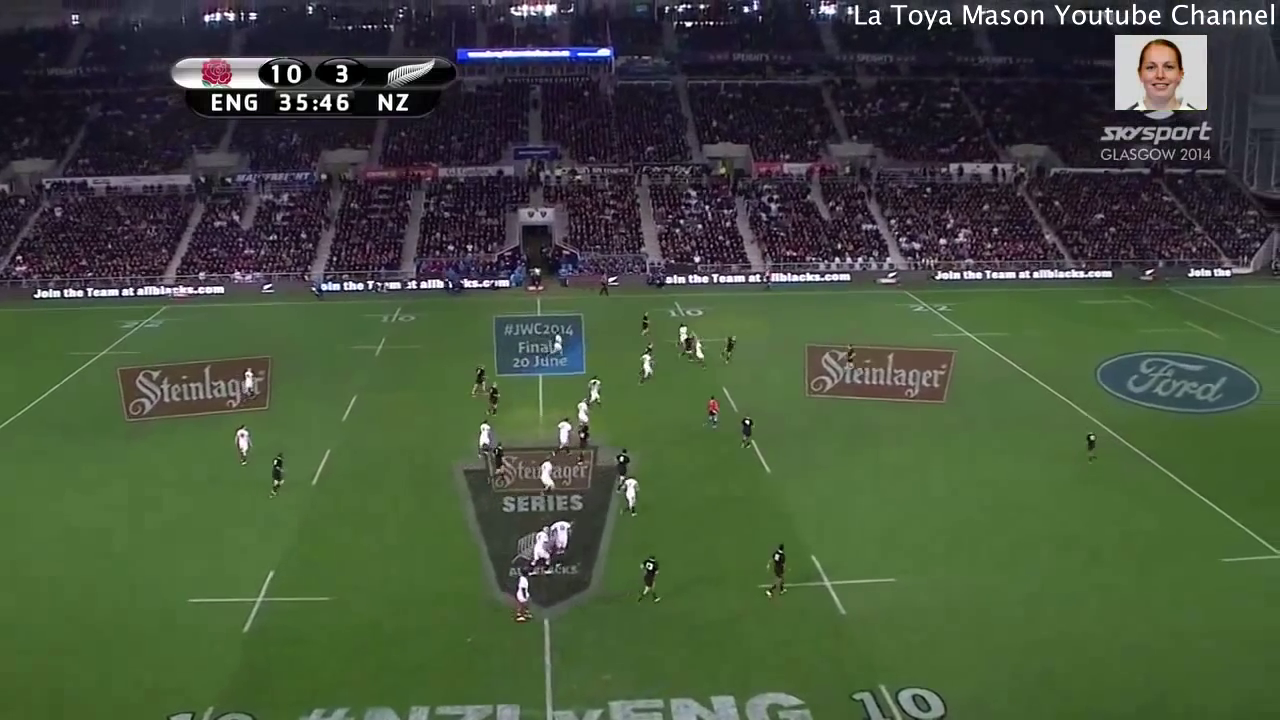10_metre: (185, 566, 341, 636), (752, 552, 903, 620), (839, 678, 958, 720), (344, 332, 424, 358), (645, 298, 718, 322), (355, 304, 427, 327)
player: (757, 540, 793, 602), (635, 553, 663, 611), (229, 421, 257, 466), (529, 523, 553, 573), (514, 565, 533, 626), (617, 476, 642, 520), (550, 416, 575, 459), (536, 454, 560, 496), (266, 451, 285, 504), (608, 448, 632, 487), (550, 516, 572, 558), (697, 396, 724, 429), (468, 359, 489, 401), (737, 411, 758, 452), (574, 420, 592, 467), (487, 440, 506, 483), (637, 352, 659, 388), (473, 419, 493, 458), (584, 374, 604, 411), (718, 332, 739, 365), (1081, 427, 1098, 467), (240, 364, 257, 400), (692, 334, 707, 369), (682, 330, 698, 362), (841, 341, 859, 369), (637, 308, 653, 339), (549, 329, 566, 358), (575, 395, 592, 424), (486, 383, 500, 416), (675, 320, 685, 351), (639, 340, 653, 355)
